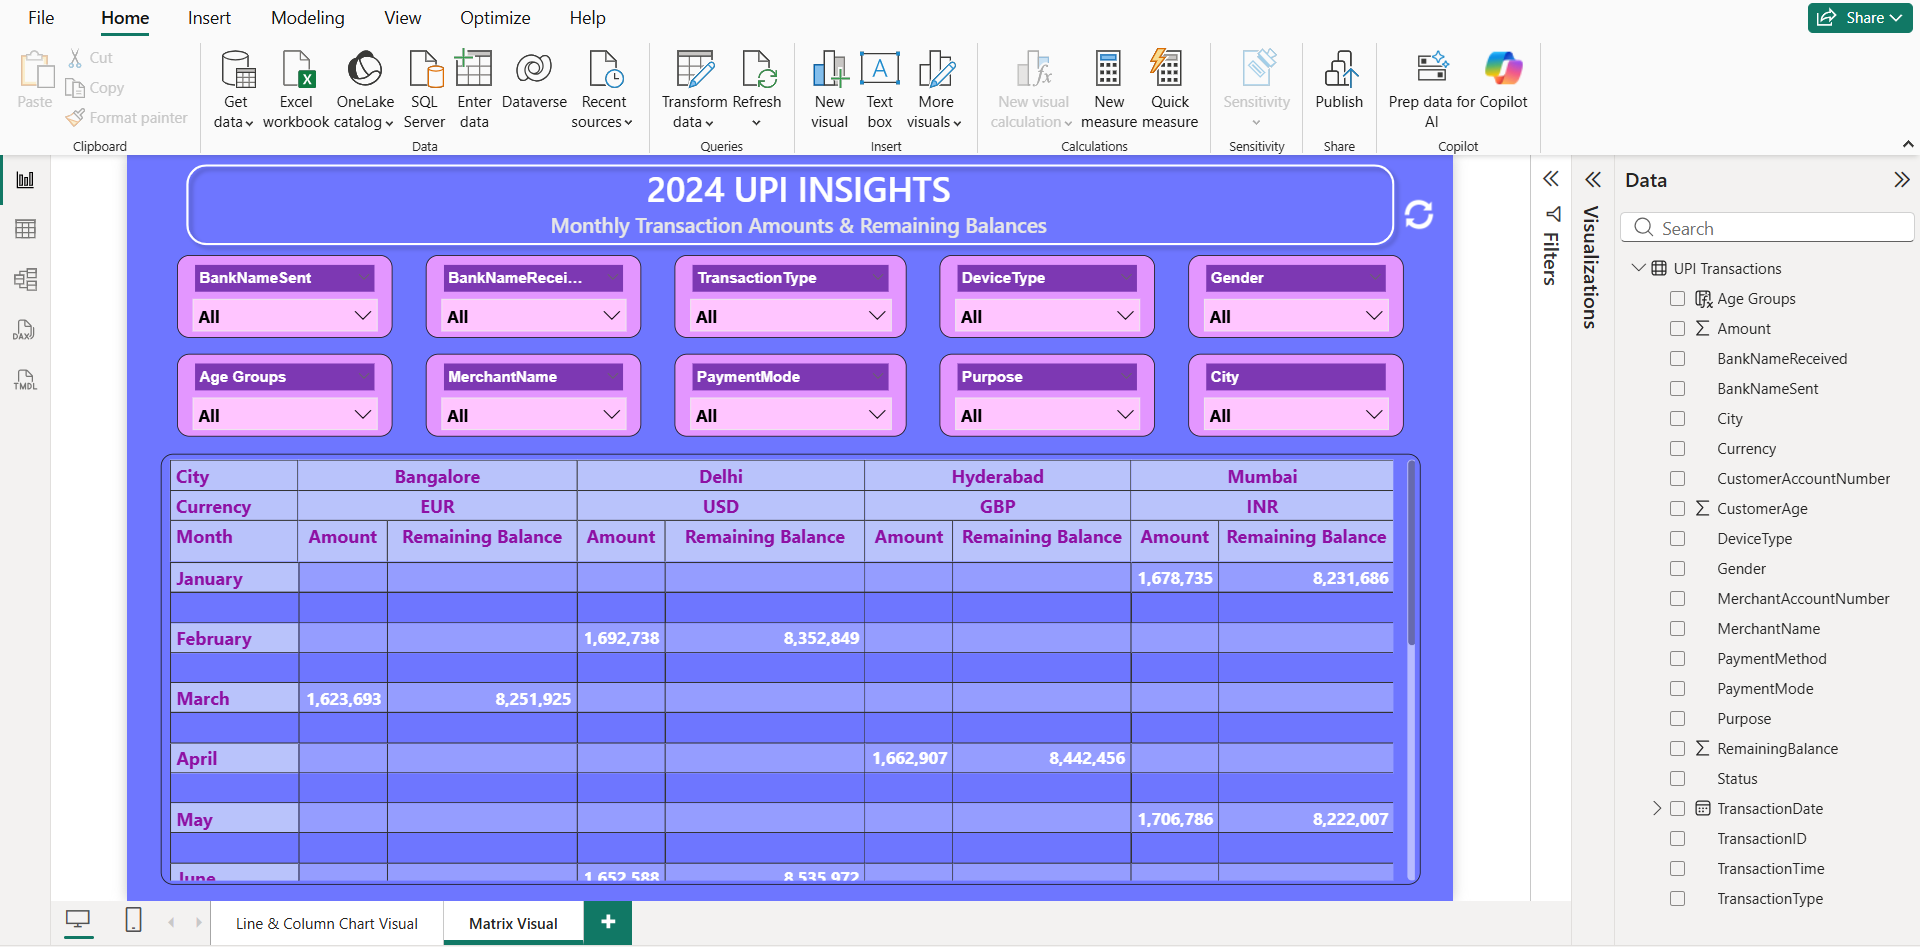

This screenshot's page, from the dashboard's own definition file:
{"tool":"powerbi","page":{"name":"Matrix Visual","canvas":[1280,720],"ordinal":1},"visuals":[{"type":"slicer","fields":{"Values":["UPI Transactions.BankNameSent"]},"box":[48,96,208,80],"z":2000},{"type":"slicer","fields":{"Values":["UPI Transactions.BankNameReceived"]},"box":[288,96,208,80],"z":3000},{"type":"slicer","fields":{"Values":["UPI Transactions.City"]},"box":[1024,192,208,80],"z":4000},{"type":"slicer","fields":{"Values":["UPI Transactions.DeviceType"]},"box":[784,96,208,80],"z":5000},{"type":"slicer","fields":{"Values":["UPI Transactions.Gender"]},"box":[1024,96,208,80],"z":6000},{"type":"slicer","fields":{"Values":["UPI Transactions.Age Groups"]},"box":[48,192,208,80],"z":7000},{"type":"slicer","fields":{"Values":["UPI Transactions.MerchantName"]},"box":[288,192,208,80],"z":8000},{"type":"slicer","fields":{"Values":["UPI Transactions.PaymentMode"]},"box":[528,192,224,80],"z":9000},{"type":"slicer","fields":{"Values":["UPI Transactions.Purpose"]},"box":[784,192,208,80],"z":10000},{"type":"slicer","fields":{"Values":["UPI Transactions.TransactionType"]},"box":[528,96,224,80],"z":11000},{"type":"pivotTable","fields":{"Values":["Sum(UPI Transactions.Amount)","Sum(UPI Transactions.RemainingBalance)"],"Rows":["UPI Transactions.TransactionDate.Variation.Date Hierarchy.Month"],"Columns":["UPI Transactions.City","UPI Transactions.Currency"]},"box":[32,288,1216,416],"z":12000},{"type":"image","box":[1221.1,37.4,51.8,40],"z":13000}]}

Visuals, with their boxes on the page's 1280x720 design canvas (x1, y1, x2, y2). These are canvas units, not pixel positions in the 1920x947 screenshot, which may show the page scaled, cropped or inside an application window:
slicer - UPI Transactions.BankNameSent: (48,96,256,176)
slicer - UPI Transactions.BankNameReceived: (288,96,496,176)
slicer - UPI Transactions.City: (1024,192,1232,272)
slicer - UPI Transactions.DeviceType: (784,96,992,176)
slicer - UPI Transactions.Gender: (1024,96,1232,176)
slicer - UPI Transactions.Age Groups: (48,192,256,272)
slicer - UPI Transactions.MerchantName: (288,192,496,272)
slicer - UPI Transactions.PaymentMode: (528,192,752,272)
slicer - UPI Transactions.Purpose: (784,192,992,272)
slicer - UPI Transactions.TransactionType: (528,96,752,176)
pivotTable - Sum(UPI Transactions.Amount) x Sum(UPI Transactions.RemainingBalance): (32,288,1248,704)
image: (1221,37,1273,77)
